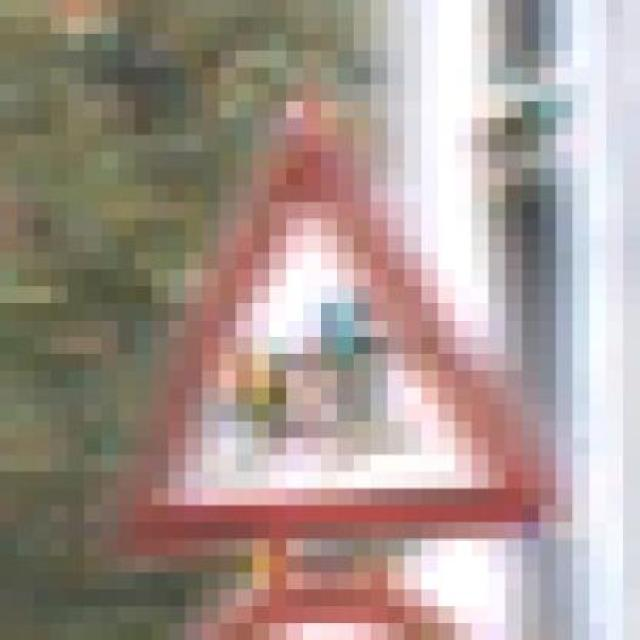Beware of children: (118, 84, 556, 573)
